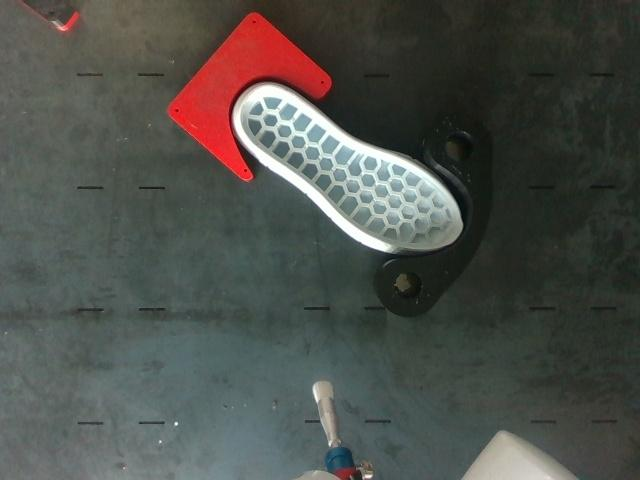shoes: (240, 85, 463, 250)
